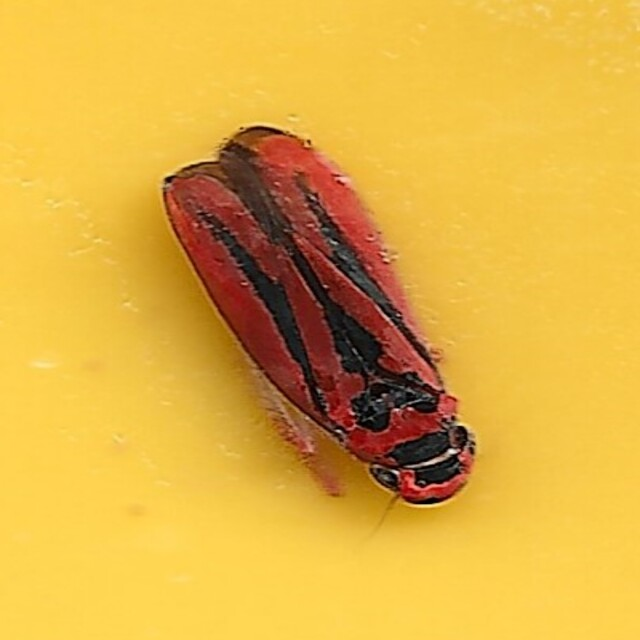Hemiptera: (160, 125, 480, 515)
